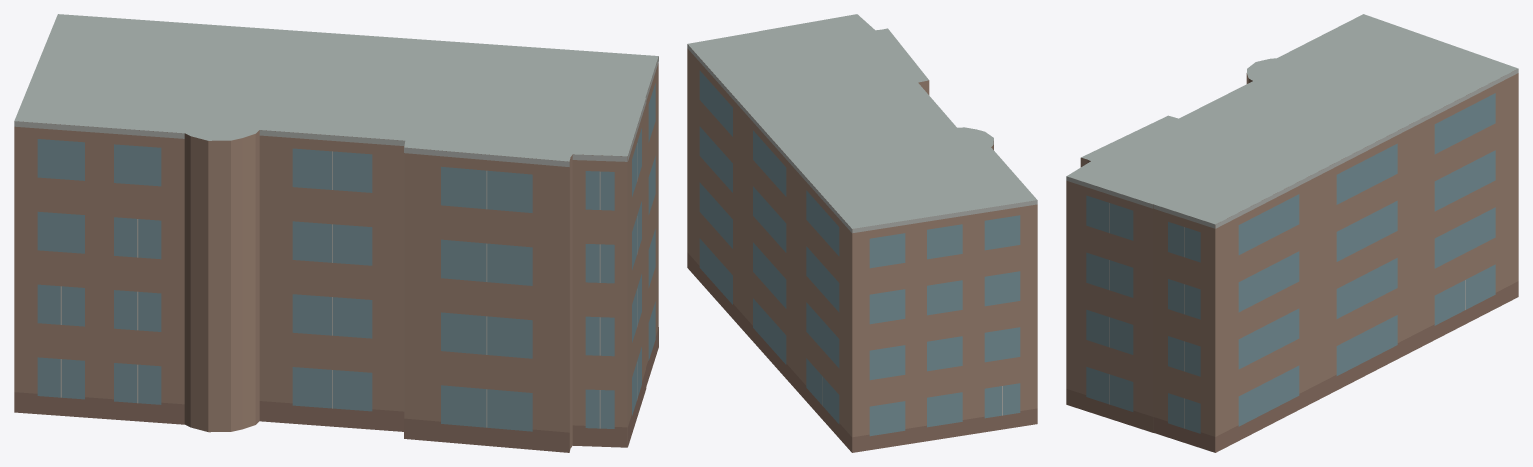
The model's file is survey-upis-32528536.glb.
3 renders of one model, left to right at view 1: azimuth 30°, elevation 25°; view 2: azimuth 150°, elevation 25°; view 3: azimuth 270°, elevation 25°, orthographic. The views are drawn at different scales.
Parts seen in each view (by area): view 1: survey-upis-32528536.tmp; view 2: survey-upis-32528536.tmp; view 3: survey-upis-32528536.tmp.
Boxes of the visible parts, x1,y1,x2,y2 form: survey-upis-32528536.tmp: (14,14,658,452); survey-upis-32528536.tmp: (687,14,1037,452); survey-upis-32528536.tmp: (1066,14,1518,452).
Bounding box in the file's own units: 25.1 × 12.7 × 22.79.
